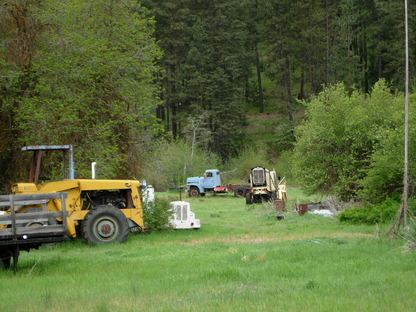truck: (191, 167, 277, 204), (246, 165, 288, 208)
